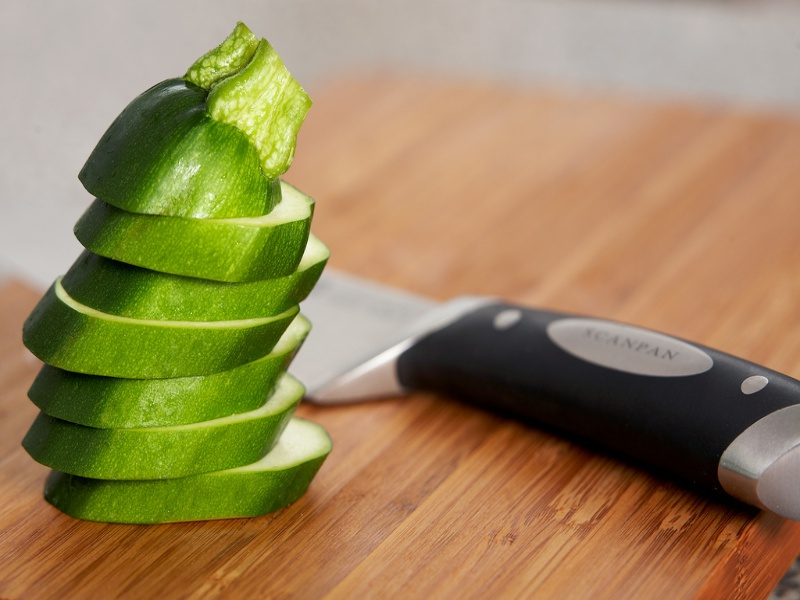knife: (249, 208, 795, 528)
